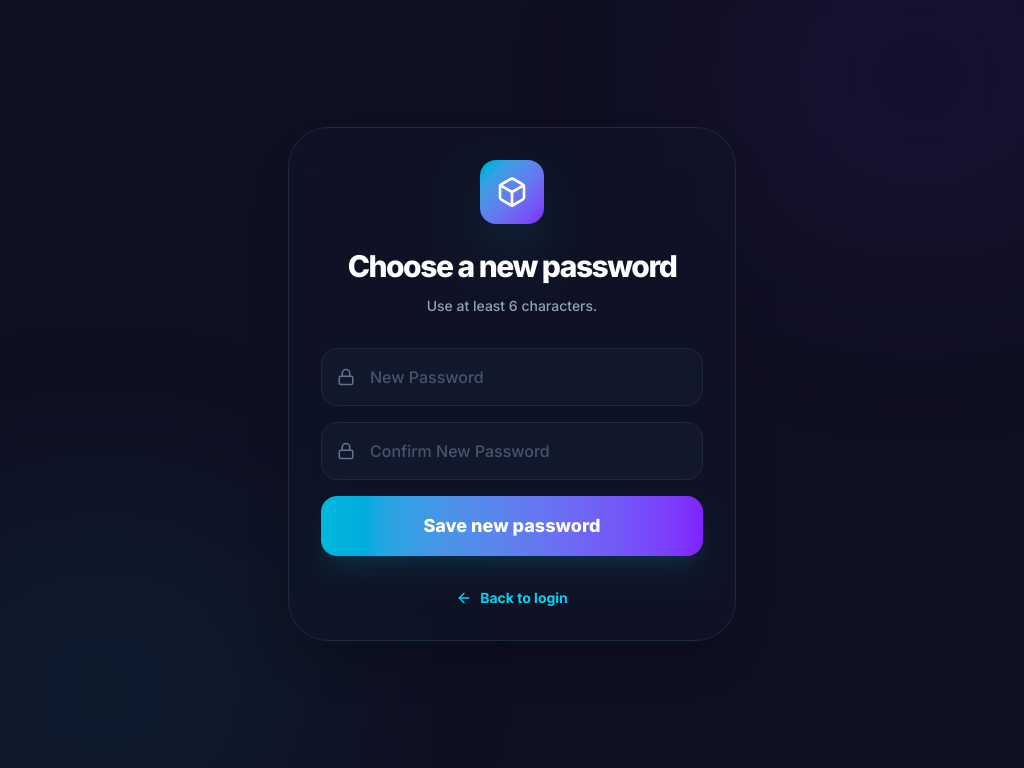
ResetPasswordPage › confirms the reset before returning to login
The width and height of the screenshot is (1024, 768).
Type "new-password" into the password field with placeholder "New Password" at [512, 377], box [321,348,703,406]
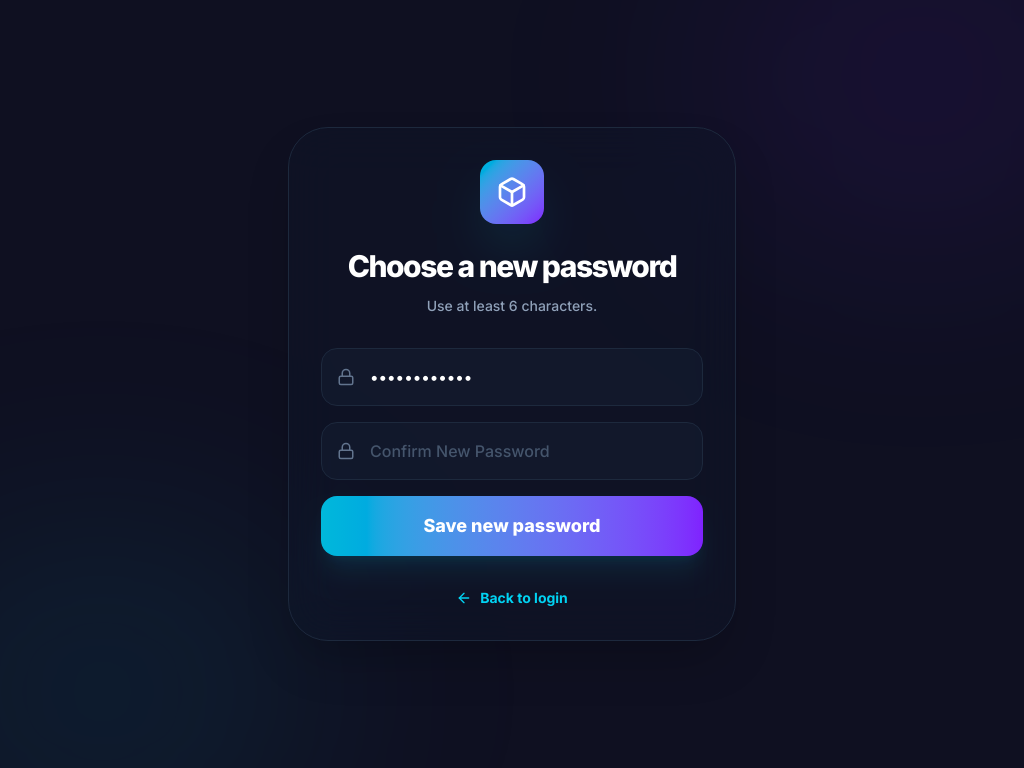
Type "new-password" into the password field with placeholder "Confirm New Password" at [512, 451], box [321,422,703,480]
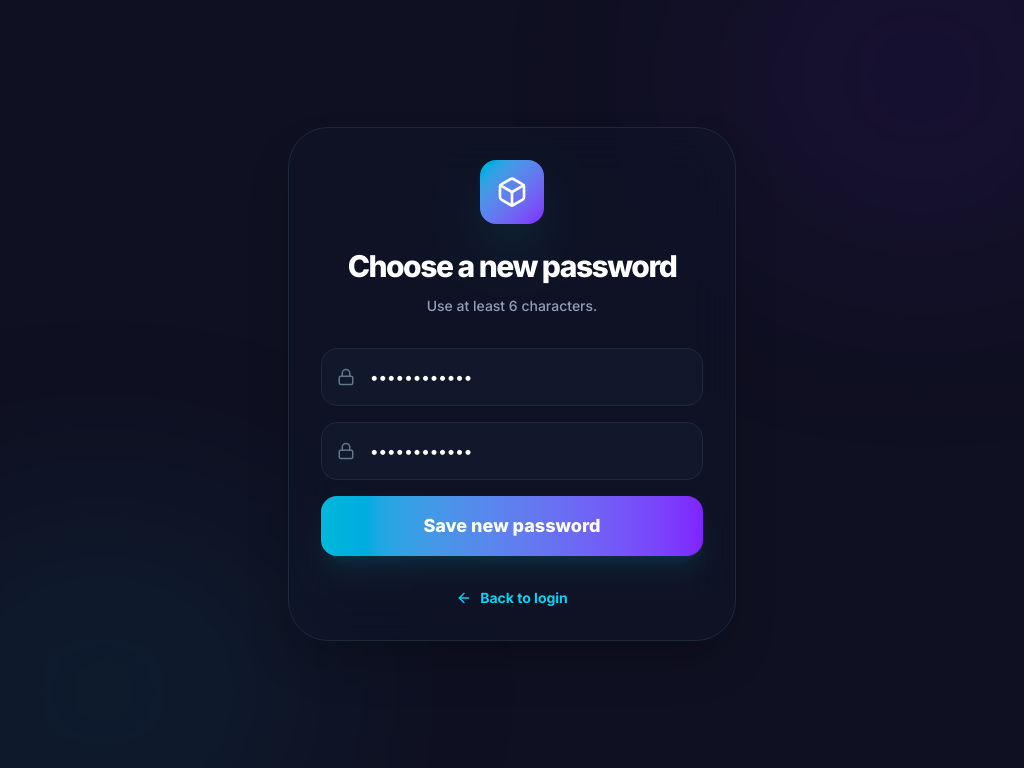
Click the button "Save new password" at [512, 526], box [321,496,703,556]
Wait 1500 ms
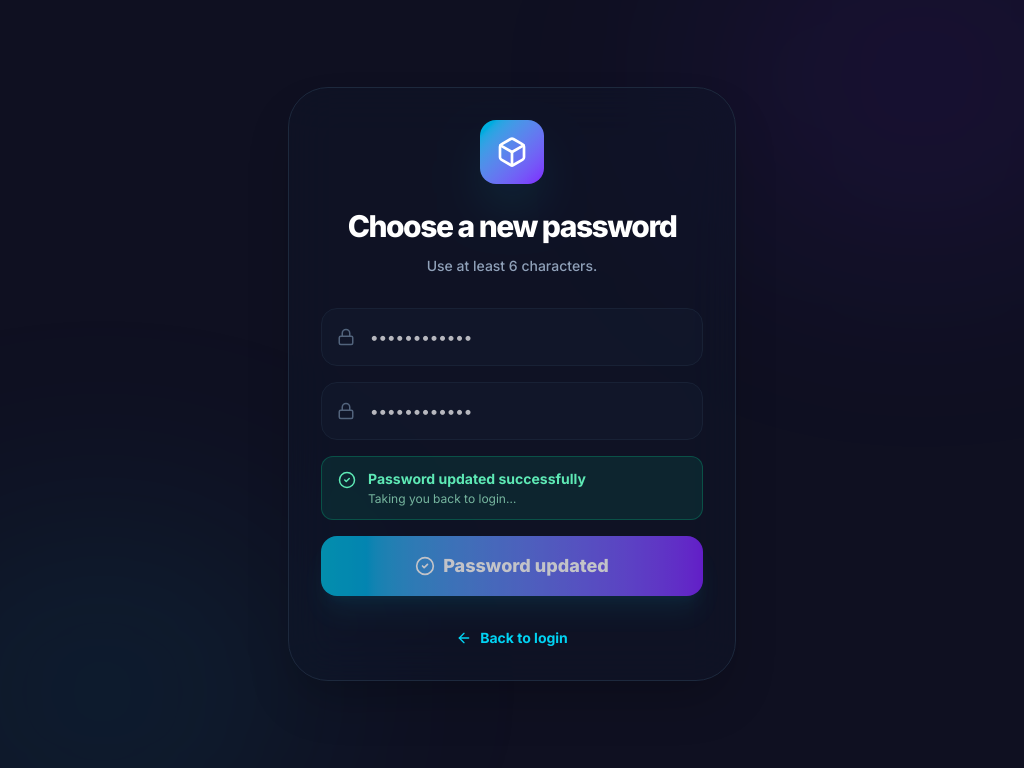
Check: the message shows "Password updated successfully", box [368,470,586,487]
